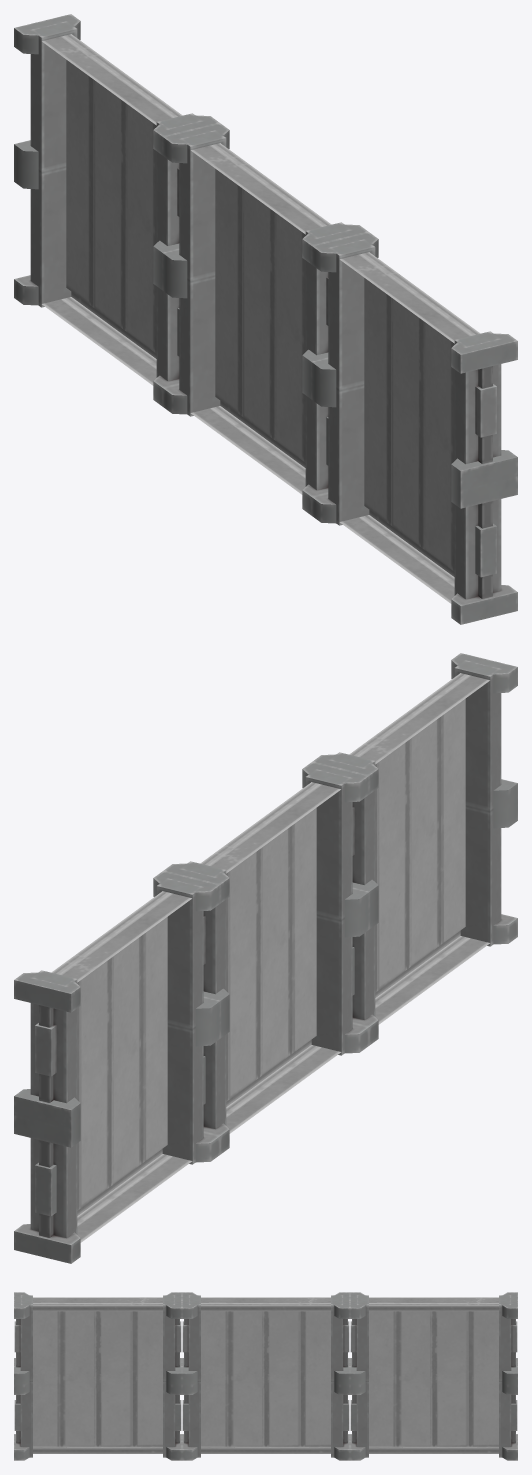
File: Pfb_JALB_WallPart2_Line__11.fbx
3 views of the same model, one above another, from view 1: azimuth 30°, elevation 25°; view 2: azimuth 150°, elevation 25°; view 3: azimuth 270°, elevation 25° (orthographic). The views are drawn at different scales.
Visible parts, largest first — view 1: MAT_Roof; view 2: MAT_Roof; view 3: MAT_Roof.
Boxes of the visible parts, x1,y1,x2,y2 form: MAT_Roof: [14, 14, 517, 624]; MAT_Roof: [14, 653, 517, 1263]; MAT_Roof: [14, 1292, 517, 1460].
Size of the model in its own units: 0.8873 by 4 by 12.
Materials: 1 (1 with a texture image).
